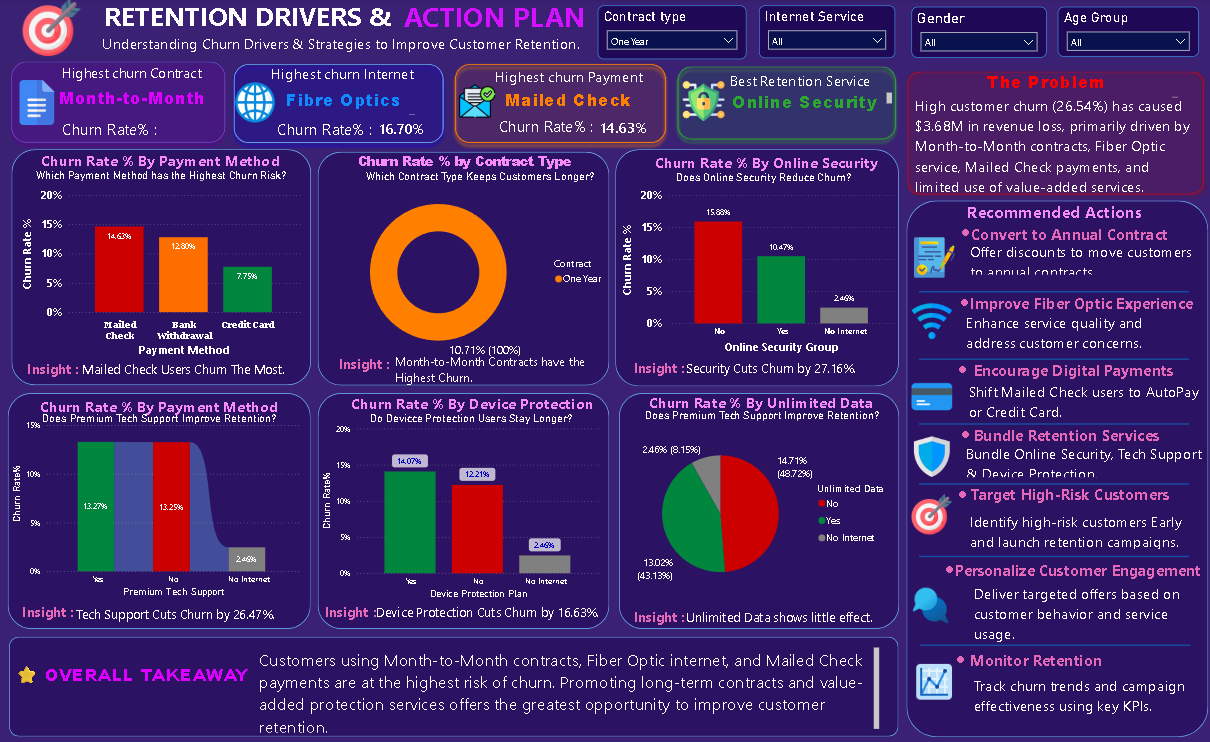

What the dashboard file says about the page in this screenshot:
{"tool":"powerbi","page":{"name":"Page 3","canvas":[1800,1100],"ordinal":2},"visuals":[{"type":"shape","box":[908.4,222.5,418.2,349.6],"z":0},{"type":"shape","box":[913.4,582.2,413.2,348],"z":1000},{"type":"shape","box":[470.1,582.2,429.9,348],"z":2000},{"type":"shape","box":[470.1,225.8,429.9,344.6],"z":3000},{"type":"shape","box":[13.4,582.2,446.7,348],"z":4000},{"type":"shape","box":[18.4,222.5,441.6,348],"z":5000},{"type":"textbox","title":"RETENTION DRIVERS &","box":[137.2,0,460,48.5],"z":6000},{"type":"textbox","title":"ACTION PLAN","box":[483.5,0,495.2,46.8],"z":7000},{"type":"textbox","title":"Understanding Churn Drivers & Strategies to Improve Customer Retention.","box":[147.2,51.9,752.8,36.8],"z":8000},{"type":"slicer","title":"Contract type","fields":{"Values":["cleaned_tc_cust_churn.Contract"]},"box":[882.9,11.1,219.3,79.3],"z":9000},{"type":"slicer","title":"Internet Service","fields":{"Values":["cleaned_tc_cust_churn.Internet Service"]},"box":[1120.6,11.1,200.9,77.4],"z":10000},{"type":"slicer","title":"Gender","fields":{"Values":["cleaned_tc_cust_churn.gender short"]},"box":[1345.5,12.9,199.1,75.6],"z":11000},{"type":"slicer","title":"Age Group","fields":{"Values":["cleaned_tc_cust_churn.Age Group"]},"box":[1561.2,12.9,208.3,73.7],"z":12000},{"type":"shape","box":[9.5,85.3,333.4,137.5],"z":13000},{"type":"textbox","title":"Highest churn Contract","box":[88.5,96.4,218,26.9],"z":14000},{"type":"donutChart","title":"Churn Rate % by Contract Type","fields":{"Category":["cleaned_tc_cust_churn.Contract"],"Y":["cleaned_tc_cust_churn.ChurnFlag"]},"box":[471.7,227.5,428.3,329.6],"z":15000},{"type":"textbox","title":"Month-to-Month","box":[82.2,129.6,240.1,44.2],"z":16000},{"type":"textbox","title":"Churn Rate% :","box":[88.5,177,164.3,33.2],"z":17000},{"type":"cardVisual","title":"Avg Age","fields":{"Data":["cleaned_tc_cust_churn.Churn Rate%"],"Rows":["cleaned_tc_cust_churn.Contract"]},"box":[213.3,112.2,142.2,131.1],"z":18000},{"type":"shape","box":[336.5,88.5,327,134.3],"z":19000},{"type":"textbox","title":"Highest churn Internet","box":[396.6,96.4,233.8,36.3],"z":20000},{"type":"textbox","title":"Fibre Optics","box":[418.2,130.5,199.1,46.8],"z":21000},{"type":"shape","box":[663.6,88.5,328.6,134.3],"z":22000},{"type":"cardVisual","fields":{"Data":["cleaned_tc_cust_churn.Churn Rate%"],"Rows":["cleaned_tc_cust_churn.Internet Type"]},"box":[530.9,112.2,132.7,126.4],"z":23000},{"type":"textbox","title":"Highest churn Payment","box":[726,98.7,229.2,28.4],"z":24000},{"type":"shape","box":[992,92,339.6,125.5],"z":25000},{"type":"textbox","title":"Mailed Check","box":[741.1,130.5,229.2,45.2],"z":26000},{"type":"cardVisual","fields":{"Data":["cleaned_tc_cust_churn.Churn Rate%"],"Rows":["cleaned_tc_cust_churn.Payment Method"]},"box":[856.3,104.3,132.7,137.5],"z":27000},{"type":"textbox","title":"Online Security","box":[1075.7,133.8,245.9,38.5],"z":28000},{"type":"textbox","title":"Best Retention Service","box":[1072.3,105.4,249.3,55.2],"z":29000},{"type":"columnChart","title":"Churn Rate by Payment Method","fields":{"Category":["cleaned_tc_cust_churn.Payment Method"],"Y":["cleaned_tc_cust_churn.Churn Rate%"]},"box":[30.1,272.7,419.9,276],"z":30000},{"type":"clusteredColumnChart","title":"Churn Rate by Online Security","fields":{"Category":["cleaned_tc_cust_churn.Online Security Group"],"Y":["cleaned_tc_cust_churn.ChurnFlag"]},"box":[913.4,272.7,413.2,257.6],"z":31000},{"type":"ribbonChart","title":"Churn Rate by Premium Tech Support","fields":{"Category":["cleaned_tc_cust_churn.Premium Tech Support"],"Y":["cleaned_tc_cust_churn.Churn Rate%"]},"box":[13.4,607.2,436.6,297.8],"z":32000},{"type":"lineClusteredColumnComboChart","title":"Churn Rate by Device Protection","fields":{"Category":["cleaned_tc_cust_churn.Device Protection Plan"],"Y":["cleaned_tc_cust_churn.Churn Rate%"]},"box":[470.1,620.6,421.6,271],"z":33000},{"type":"pieChart","title":"Churn Rate by Unlimited Data","fields":{"Category":["cleaned_tc_cust_churn.Unlimited Data"],"Y":["cleaned_tc_cust_churn.ChurnFlag"]},"box":[916.7,629,404.8,264.3],"z":34000},{"type":"textbox","title":"Which Payment Method  has the Highest Churn Risk?","box":[49,246.5,391.8,26.9],"z":35000},{"type":"textbox","title":"Churn Rate% :","box":[731.5,173.8,153.3,33.2],"z":36000},{"type":"textbox","title":"Churn Rate% :","box":[406,177,164.3,33.2],"z":37000},{"type":"textbox","title":"Churn Rate % By Payment Method","box":[56.9,222.8,402.9,36.3],"z":38000},{"type":"textbox","title":"Mailed Check Users Churn The Most.","box":[118.8,533.6,331.2,31.8],"z":39000},{"type":"textbox","title":"Insight :","box":[37,532.4,86.9,31.6],"z":40000},{"type":"textbox","title":"Churn Rate % By Online Security","box":[961.9,227.5,341.3,36.8],"z":41000},{"type":"textbox","title":"Which Contract Type Keeps  Customers Longer?","box":[535.6,249.6,391.8,26.9],"z":42000},{"type":"textbox","title":"Insight :","box":[495,525,86.9,31.6],"z":43000},{"type":"textbox","title":"Month-to-Month Contracts have the Highest Churn.","box":[578.8,523.6,306.1,48.5],"z":44000},{"type":"textbox","title":"Does Online Security Reduce Churn?","box":[993.7,250.9,276,26.8],"z":45000},{"type":"textbox","title":"Insight :","box":[930.1,530.3,100.4,31.8],"z":46000},{"type":"textbox","title":"Security Cuts Churn by 27.16%.","box":[1008.7,532,336.2,30.1],"z":47000},{"type":"textbox","title":"Churn Rate % By Payment Method","box":[55.2,585.5,378.1,38.5],"z":48000},{"type":"textbox","title":"Does Premium Tech Support Improve Retention?","box":[58.6,605.6,391.4,26.8],"z":49000},{"type":"textbox","title":"Insight :","box":[30.1,890,87,31.8],"z":50000},{"type":"textbox","title":"Tech Support Cuts Churn by 26.47%.","box":[108.7,895,331.2,31.8],"z":51000},{"type":"textbox","title":"Churn Rate % By Device Protection","box":[513.6,582.2,378.1,38.5],"z":52000},{"type":"textbox","title":"Churn Rate % By Unlimited Data","box":[953.5,580.5,378.1,38.5],"z":53000},{"type":"textbox","title":"Does Premium Tech Support Improve Retention?","box":[946.8,600.6,391.4,26.8],"z":54000},{"type":"textbox","title":"Do Devicce Protection Users Stay Longer?","box":[542,607.2,321.2,26.8],"z":55000},{"type":"textbox","title":"Insight :","box":[475,890,87,31.8],"z":56000},{"type":"textbox","title":"Device Protection Cuts Churn by 16.63%.","box":[552,891.6,379.7,31.8],"z":57000},{"type":"textbox","title":"Insight :","box":[930.1,898.3,87,31.8],"z":58000},{"type":"textbox","title":"Unlimited Data shows little effect.","box":[1008.7,900,312.8,31.8],"z":59000},{"type":"shape","box":[15.1,941.8,1311.5,147.2],"z":60000},{"type":"textbox","title":"Customers using Month-to-Month contracts, Fiber Optic internet, and Mailed Check payments are at the highest risk of churn. Promoting long-term contracts and value-added protection services offers the","box":[378.1,953.5,925.1,135.5],"z":61000},{"type":"textbox","title":"⭐ OVERALL TAKEAWAY","box":[18.4,978.6,369.7,70.3],"z":62000},{"type":"shape","box":[1331.6,98.7,455,199.1],"z":63000},{"type":"textbox","title":"The Problem","box":[1345,105.4,398.1,46.8],"z":64000},{"type":"textbox","title":"Customer churn is strongly influenced by contract type, payment method, internet service, and service adoption. Month-to-Month customers, Fiber Optic users, and Mailed Check customers have the highest","box":[1345,138.8,423.2,158.9],"z":65000},{"type":"shape","box":[1338.3,297.8,445,791.3],"z":66000},{"type":"textbox","title":"Recommended Actions","box":[1386.8,297.8,341.3,33.5],"z":67000},{"type":"textbox","title":"Convert to Annual Contract","box":[1428.6,331.2,306.1,36.8],"z":68000},{"type":"textbox","title":"Offer discounts to move customers to annual contracts.","box":[1427,358,349.6,50.2],"z":69000},{"type":"textbox","title":"Improve Fiber Optic Experience","box":[1427,433.3,353,36.8],"z":70000},{"type":"shape","box":[1356.7,414.9,398.1,36.8],"z":71000},{"type":"textbox","title":"Enhance service quality and address customer concerns.","box":[1420.3,463.4,342.9,60.2],"z":72000},{"type":"shape","box":[1356.7,513.6,398.1,36.8],"z":73000},{"type":"textbox","title":"Encourage Digital Payments","box":[1432,532,336.2,36.8],"z":74000},{"type":"textbox","title":"Shift Mailed Check users to AutoPay or Credit Card.","box":[1425.3,563.8,366.4,56.9],"z":75000},{"type":"textbox","title":"Target High-Risk Customers","box":[1428.6,716,336.2,36.8],"z":76000},{"type":"textbox","title":"Bundle Online Security, Tech Support & Device Protection.","box":[1421.9,655.8,361.3,50.2],"z":77000},{"type":"textbox","title":"Bundle Retention Services","box":[1432,629,336.2,36.8],"z":78000},{"type":"textbox","title":"Identify high-risk customers Early and launch retention campaigns.","box":[1427,756.1,354.6,56.9],"z":79000},{"type":"textbox","title":"Personalize Customer Engagement","box":[1405.2,828.1,383.1,35.1],"z":80000},{"type":"shape","box":[1356.7,607.2,398.1,43.5],"z":81000},{"type":"shape","box":[1356.7,694.2,398.1,43.5],"z":82000},{"type":"shape","box":[1356.7,801.3,398.1,43.5],"z":83000},{"type":"textbox","title":"Deliver targeted offers based on customer behavior and service usage.","box":[1432,863.2,354.6,92],"z":84000},{"type":"shape","box":[1358.4,933.5,398.1,43.5],"z":85000},{"type":"textbox","title":"Monitor Retention Performance","box":[1427,960.2,353,36.8],"z":86000},{"type":"textbox","title":"Track churn trends and campaign effectiveness using key KPIs.","box":[1432,997,359.7,60.2],"z":87000},{"type":"image","box":[21.7,92,66.9,123.8],"z":88000},{"type":"image","box":[348,98.7,58.6,108.7],"z":89000},{"type":"image","box":[1008.7,97,61.9,108.7],"z":90000},{"type":"image","box":[679.2,100.4,53.5,105.4],"z":91000},{"type":"image","box":[1350,331.2,60.2,102],"z":92000},{"type":"image","box":[1345,443.3,60.2,65.2],"z":93000},{"type":"image","box":[1345,547,60.2,80.3],"z":94000},{"type":"image","box":[1345,635.7,60.2,80.3],"z":95000},{"type":"image","box":[1345,721,60.2,80.3],"z":96000},{"type":"image","box":[1343.3,960.2,70.3,95.4],"z":97000},{"type":"image","box":[1343.3,854.8,60.2,80.3],"z":98000},{"type":"textbox","title":"•","box":[1411,323,31.8,35.1],"z":99000},{"type":"textbox","title":"•","box":[1410.2,424.9,31.8,35.1],"z":100000},{"type":"textbox","title":"•","box":[1408.6,525.3,31.8,35.1],"z":101000},{"type":"textbox","title":"•","box":[1411.9,620.6,31.8,35.1],"z":102000},{"type":"textbox","title":"•","box":[1408.6,709.3,31.8,35.1],"z":103000},{"type":"textbox","title":"•","box":[1388.5,819.7,31.8,35.1],"z":104000},{"type":"textbox","title":"•","box":[1405.2,953.5,31.8,35.1],"z":105000},{"type":"image","box":[10,0,137.2,85.3],"z":106000}]}

Visuals, with their boxes in screenshot pixels (x1, y1, x2, y2), scaled from the page's 1800x1100 canvas onto the 1210x742 screenshot:
shape: bbox(611, 150, 892, 386)
shape: bbox(614, 393, 892, 627)
shape: bbox(316, 393, 605, 627)
shape: bbox(316, 152, 605, 385)
shape: bbox(9, 393, 309, 627)
shape: bbox(12, 150, 309, 385)
"RETENTION DRIVERS &" textbox: bbox(92, 0, 401, 33)
"ACTION PLAN" textbox: bbox(325, 0, 658, 32)
"Understanding Churn Drivers & Strategies to Improve Customer Retention." textbox: bbox(99, 35, 605, 60)
"Contract type" slicer: bbox(594, 7, 741, 61)
"Internet Service" slicer: bbox(753, 7, 888, 60)
"Gender" slicer: bbox(904, 9, 1038, 60)
"Age Group" slicer: bbox(1049, 9, 1189, 58)
shape: bbox(6, 58, 231, 150)
"Highest churn Contract" textbox: bbox(59, 65, 206, 83)
"Churn Rate % by Contract Type" donutChart: bbox(317, 153, 605, 376)
"Month-to-Month" textbox: bbox(55, 87, 217, 117)
"Churn Rate% :" textbox: bbox(59, 119, 170, 142)
"Avg Age" cardVisual: bbox(143, 76, 239, 164)
shape: bbox(226, 60, 446, 150)
"Highest churn Internet" textbox: bbox(267, 65, 424, 90)
"Fibre Optics" textbox: bbox(281, 88, 415, 120)
shape: bbox(446, 60, 667, 150)
cardVisual - cleaned_tc_cust_churn.Churn Rate% x cleaned_tc_cust_churn.Internet Type: bbox(357, 76, 446, 161)
"Highest churn Payment" textbox: bbox(488, 67, 642, 86)
shape: bbox(667, 62, 895, 147)
"Mailed Check" textbox: bbox(498, 88, 652, 119)
cardVisual - cleaned_tc_cust_churn.Churn Rate% x cleaned_tc_cust_churn.Payment Method: bbox(576, 70, 665, 163)
"Online Security" textbox: bbox(723, 90, 888, 116)
"Best Retention Service" textbox: bbox(721, 71, 888, 108)
"Churn Rate by Payment Method" columnChart: bbox(20, 184, 302, 370)
"Churn Rate by Online Security" clusteredColumnChart: bbox(614, 184, 892, 358)
"Churn Rate by Premium Tech Support" ribbonChart: bbox(9, 410, 302, 610)
"Churn Rate by Device Protection" lineClusteredColumnComboChart: bbox(316, 419, 599, 601)
"Churn Rate by Unlimited Data" pieChart: bbox(616, 424, 888, 603)
"Which Payment Method  has the Highest Churn Risk?" textbox: bbox(33, 166, 296, 184)
"Churn Rate% :" textbox: bbox(492, 117, 595, 140)
"Churn Rate% :" textbox: bbox(273, 119, 383, 142)
"Churn Rate % By Payment Method" textbox: bbox(38, 150, 309, 175)
"Mailed Check Users Churn The Most." textbox: bbox(80, 360, 302, 381)
"Insight :" textbox: bbox(25, 359, 83, 380)
"Churn Rate % By Online Security" textbox: bbox(647, 153, 876, 178)
"Which Contract Type Keeps  Customers Longer?" textbox: bbox(360, 168, 623, 187)
"Insight :" textbox: bbox(333, 354, 391, 375)
"Month-to-Month Contracts have the Highest Churn." textbox: bbox(389, 353, 595, 386)
"Does Online Security Reduce Churn?" textbox: bbox(668, 169, 854, 187)
"Insight :" textbox: bbox(625, 358, 693, 379)
"Security Cuts Churn by 27.16%." textbox: bbox(678, 359, 904, 379)
"Churn Rate % By Payment Method" textbox: bbox(37, 395, 291, 421)
"Does Premium Tech Support Improve Retention?" textbox: bbox(39, 409, 302, 427)
"Insight :" textbox: bbox(20, 600, 79, 622)
"Tech Support Cuts Churn by 26.47%." textbox: bbox(73, 604, 296, 625)
"Churn Rate % By Device Protection" textbox: bbox(345, 393, 599, 419)
"Churn Rate % By Unlimited Data" textbox: bbox(641, 392, 895, 418)
"Does Premium Tech Support Improve Retention?" textbox: bbox(636, 405, 900, 423)
"Do Devicce Protection Users Stay Longer?" textbox: bbox(364, 410, 580, 428)
"Insight :" textbox: bbox(319, 600, 378, 622)
"Device Protection Cuts Churn by 16.63%." textbox: bbox(371, 601, 626, 623)
"Insight :" textbox: bbox(625, 606, 684, 627)
"Unlimited Data shows little effect." textbox: bbox(678, 607, 888, 629)
shape: bbox(10, 635, 892, 735)
"Customers using Month-to-Month contracts, Fiber Optic internet, and Mailed Check payments are at the highest risk of churn. Promoting long-term contracts and value-added protection services offers the" textbox: bbox(254, 643, 876, 735)
"⭐ OVERALL TAKEAWAY" textbox: bbox(12, 660, 261, 708)
shape: bbox(895, 67, 1201, 201)
"The Problem" textbox: bbox(904, 71, 1172, 103)
"Customer churn is strongly influenced by contract type, payment method, internet service, and service adoption. Month-to-Month customers, Fiber Optic users, and Mailed Check customers have the highest" textbox: bbox(904, 94, 1189, 201)
shape: bbox(900, 201, 1199, 735)
"Recommended Actions" textbox: bbox(932, 201, 1162, 223)
"Convert to Annual Contract" textbox: bbox(960, 223, 1166, 248)
"Offer discounts to move customers to annual contracts." textbox: bbox(959, 241, 1194, 275)
"Improve Fiber Optic Experience" textbox: bbox(959, 292, 1197, 317)
shape: bbox(912, 280, 1180, 305)
"Enhance service quality and address customer concerns." textbox: bbox(955, 313, 1185, 353)
shape: bbox(912, 346, 1180, 371)
"Encourage Digital Payments" textbox: bbox(963, 359, 1189, 384)
"Shift Mailed Check users to AutoPay or Credit Card." textbox: bbox(958, 380, 1204, 419)
"Target High-Risk Customers" textbox: bbox(960, 483, 1186, 508)
"Bundle Online Security, Tech Support & Device Protection." textbox: bbox(956, 442, 1199, 476)
"Bundle Retention Services" textbox: bbox(963, 424, 1189, 449)
"Identify high-risk customers Early and launch retention campaigns." textbox: bbox(959, 510, 1198, 548)
"Personalize Customer Engagement" textbox: bbox(945, 559, 1202, 582)
shape: bbox(912, 410, 1180, 439)
shape: bbox(912, 468, 1180, 498)
shape: bbox(912, 541, 1180, 570)
"Deliver targeted offers based on customer behavior and service usage." textbox: bbox(963, 582, 1201, 644)
shape: bbox(913, 630, 1181, 659)
"Monitor Retention Performance" textbox: bbox(959, 648, 1197, 673)
"Track churn trends and campaign effectiveness using key KPIs." textbox: bbox(963, 673, 1204, 713)
image: bbox(15, 62, 60, 146)
image: bbox(234, 67, 273, 140)
image: bbox(678, 65, 720, 139)
image: bbox(457, 68, 493, 139)
image: bbox(908, 223, 948, 292)
image: bbox(904, 299, 945, 343)
image: bbox(904, 369, 945, 423)
image: bbox(904, 429, 945, 483)
image: bbox(904, 486, 945, 541)
image: bbox(903, 648, 950, 712)
image: bbox(903, 577, 943, 631)
"•" textbox: bbox(949, 218, 970, 242)
"•" textbox: bbox(948, 287, 969, 310)
"•" textbox: bbox(947, 354, 968, 378)
"•" textbox: bbox(949, 419, 970, 442)
"•" textbox: bbox(947, 478, 968, 502)
"•" textbox: bbox(933, 553, 955, 577)
"•" textbox: bbox(945, 643, 966, 667)
image: bbox(7, 0, 99, 58)
